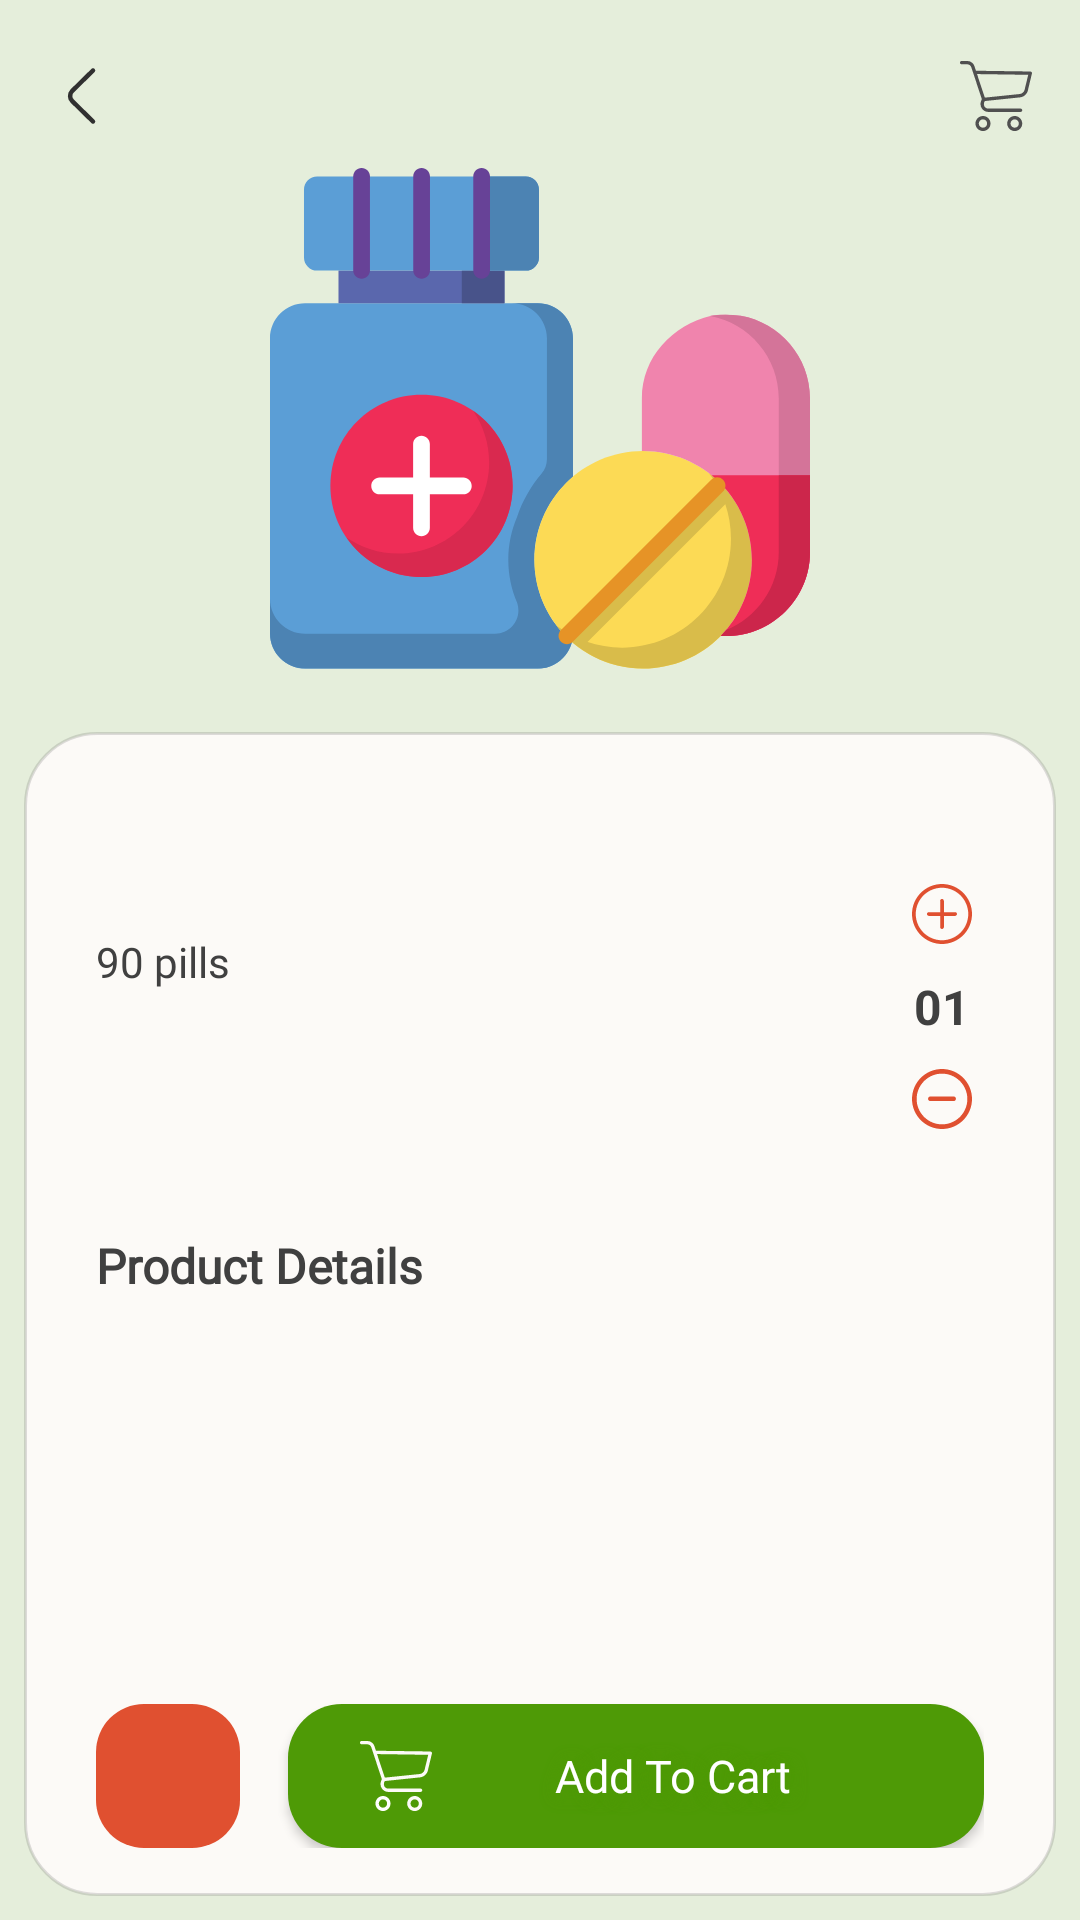

Icons on this 1080×1920 Android screen, each with the point to tap as (x,y):
add: (942,914)
back: (82,96)
cart: (996,96)
minus rounded: (942,1099)
